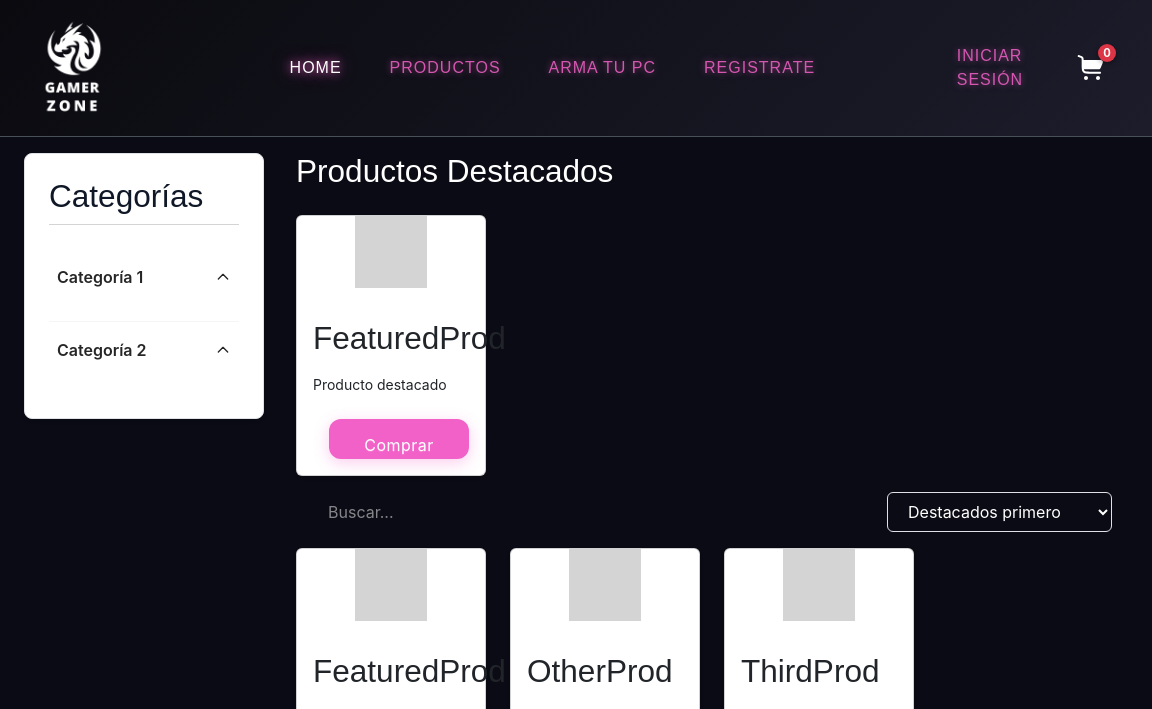
it: ProductPage › filtra productos por nombre al escribir en el buscador
The image size is (1152, 709).
Type "Featured" into the field with placeholder "Buscar..." at {"x": 440, "y": 512}, box x1=312 y1=492 x2=568 y2=532
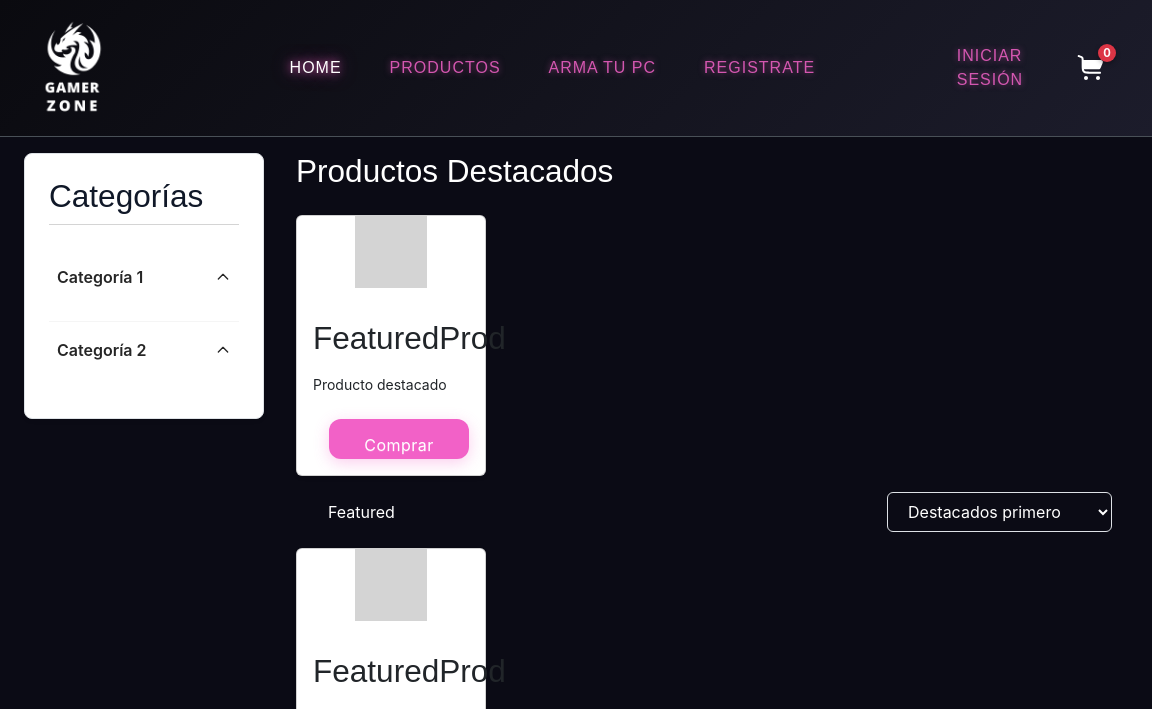
Check: the heading "FeaturedProd" below "Productos Destacados" is shown, box x1=313 y1=320 x2=506 y2=356
Check: the heading "OtherProd" is gone
